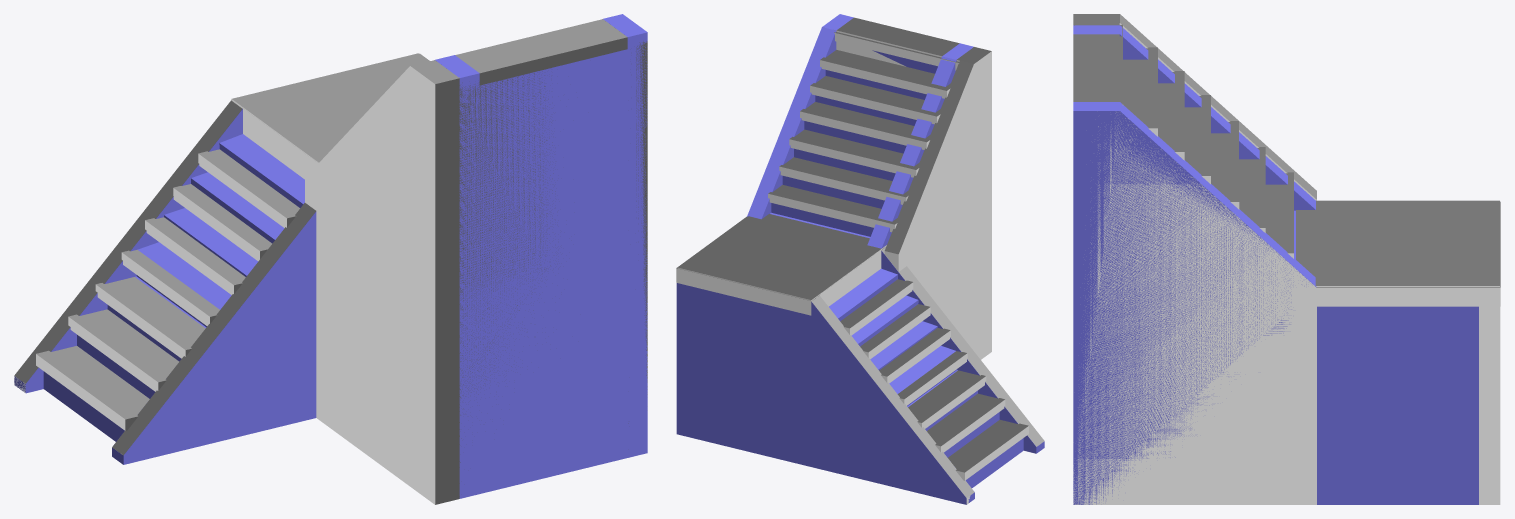
Rendered from SM_Dummy_Stairs.fbx.
The picture shows the model from 3 angles, left to right: view 1: azimuth 30°, elevation 25°; view 2: azimuth 150°, elevation 25°; view 3: azimuth 270°, elevation 25°; orthographic projection. The views are drawn at different scales.
Visible parts, largest first — view 1: SM_Dummy_Stairs, SM_Dummy_Stairs_ConvexHulls; view 2: SM_Dummy_Stairs_ConvexHulls, SM_Dummy_Stairs; view 3: SM_Dummy_Stairs_ConvexHulls, SM_Dummy_Stairs.
Part boxes in pixels (x1,y1,x2,y2): SM_Dummy_Stairs: (14,14,647,498); SM_Dummy_Stairs_ConvexHulls: (14,19,647,504); SM_Dummy_Stairs_ConvexHulls: (676,17,1044,504); SM_Dummy_Stairs: (676,14,1044,504); SM_Dummy_Stairs_ConvexHulls: (1073,14,1500,504); SM_Dummy_Stairs: (1073,25,1478,504).
Bounding box in the file's own units: 310 × 302 × 307.
2 materials, 1 textured.
